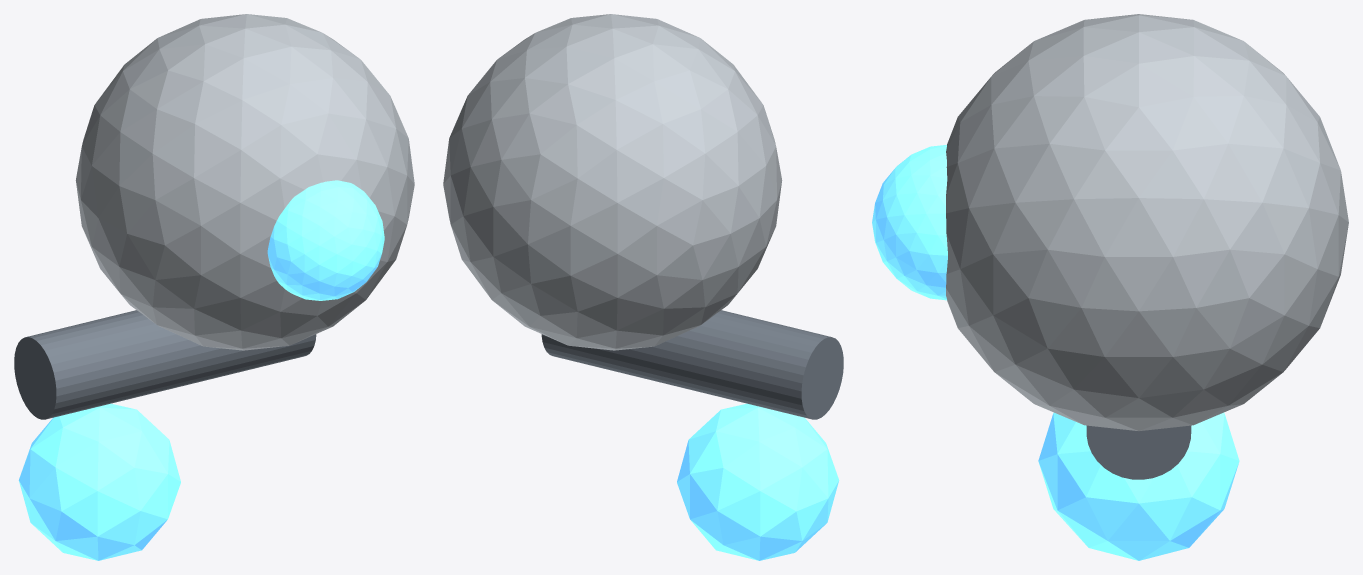
The model's file is drone_01.glb.
3 renders of one model, left to right at view 1: azimuth 30°, elevation 25°; view 2: azimuth 150°, elevation 25°; view 3: azimuth 270°, elevation 25°, orthographic. The views are drawn at different scales.
Parts seen in each view (by area): view 1: core, pod, arm, sensor; view 2: core, pod, arm; view 3: core, pod, sensor, arm.
Part boxes in pixels (box(x1,y1,x2,y2)): core: box(75, 14, 414, 350); pod: box(18, 403, 180, 560); arm: box(14, 310, 316, 419); sensor: box(267, 180, 384, 300); core: box(443, 14, 782, 350); pod: box(677, 403, 839, 560); arm: box(541, 310, 843, 419); core: box(946, 14, 1348, 430); pod: box(1038, 412, 1239, 560); sensor: box(872, 145, 947, 300); arm: box(1086, 425, 1191, 479).
Size of the model in its own units: 1.18 by 1.53 by 1.09.
